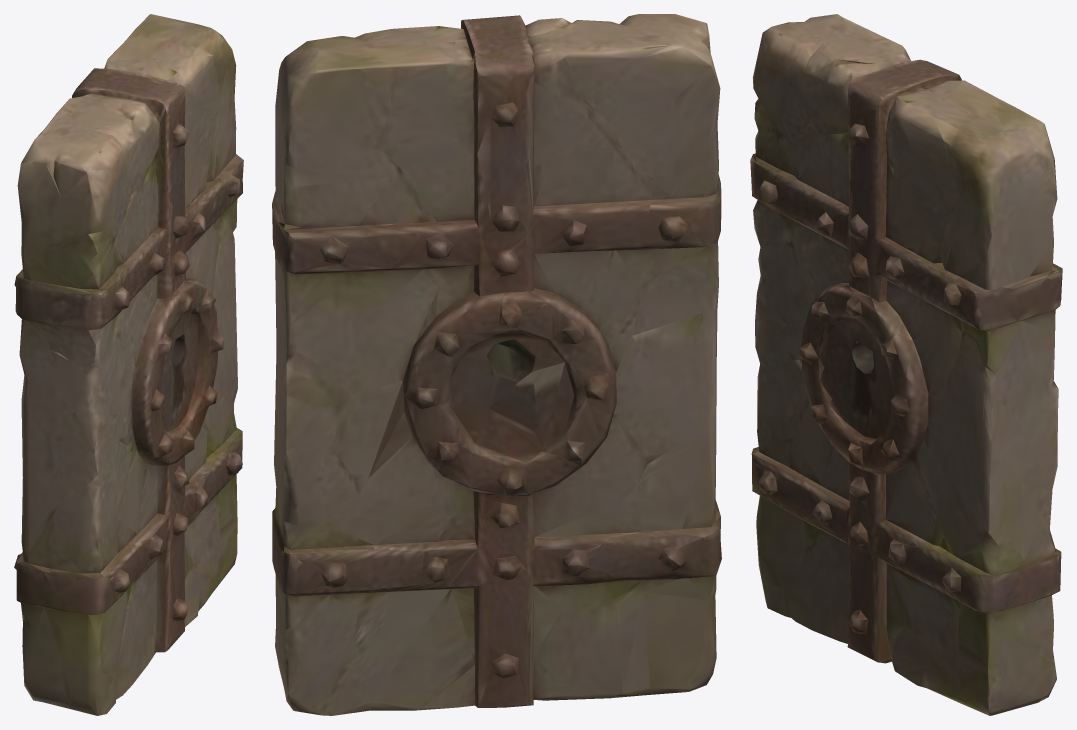
The model's file is puerta_llave_hoja_3000.glb.
3 renders of one model, left to right at view 1: azimuth 30°, elevation 25°; view 2: azimuth 150°, elevation 25°; view 3: azimuth 270°, elevation 25°, orthographic. The views are drawn at different scales.
Parts seen in each view (by area): view 1: puerta_llave_hoja_malla; view 2: puerta_llave_hoja_malla; view 3: puerta_llave_hoja_malla.
Boxes of the visible parts, box(x1,y1,x2,y2) form: puerta_llave_hoja_malla: box(14, 14, 243, 715); puerta_llave_hoja_malla: box(272, 14, 721, 715); puerta_llave_hoja_malla: box(750, 14, 1062, 715).
Size of the model in its own units: 0.1989 by 0.3526 by 0.1729.
1 material, 1 textured.
